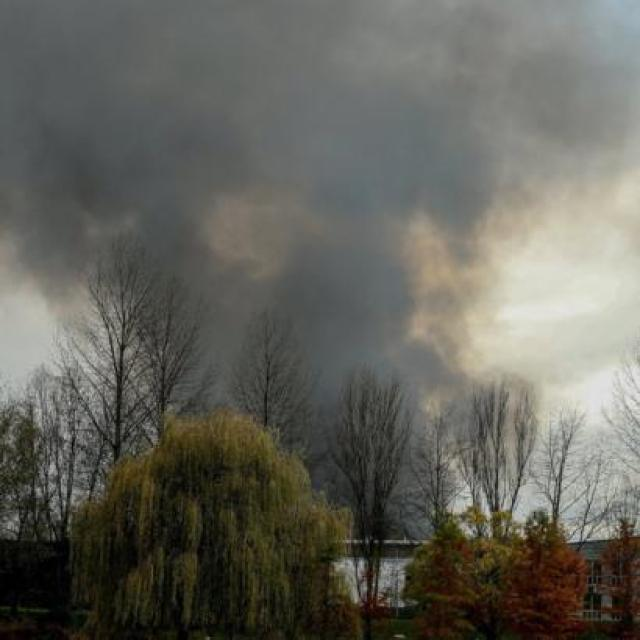Smoke: (303, 0, 640, 292), (145, 292, 500, 525)
